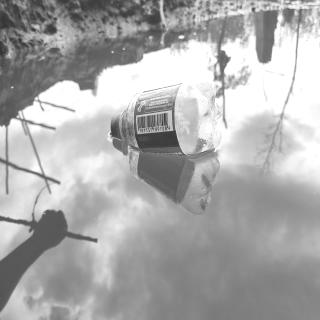bottle: (108, 76, 224, 158)
